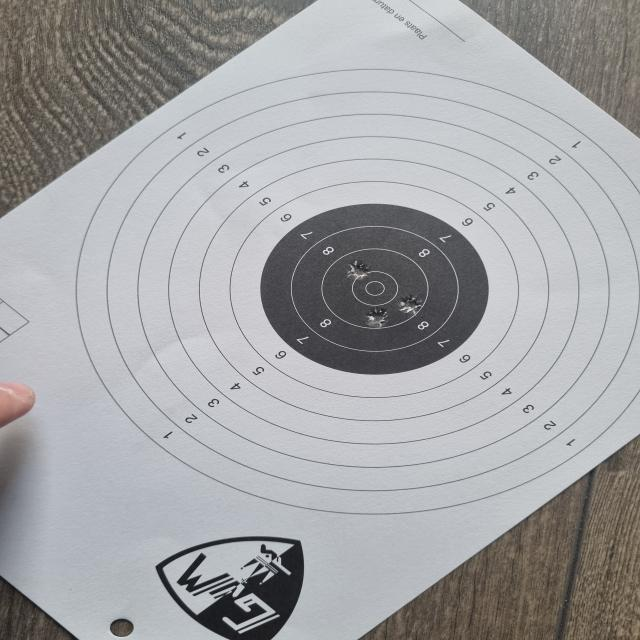10: (345, 261, 370, 279)
9: (396, 294, 423, 316), (366, 307, 389, 327)
Target: (76, 66, 640, 516)
black_contour: (260, 203, 490, 375)
